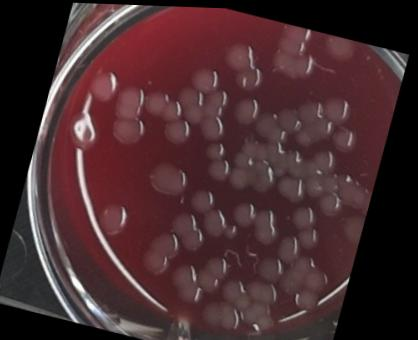vharveyi: (142, 155, 193, 203)
